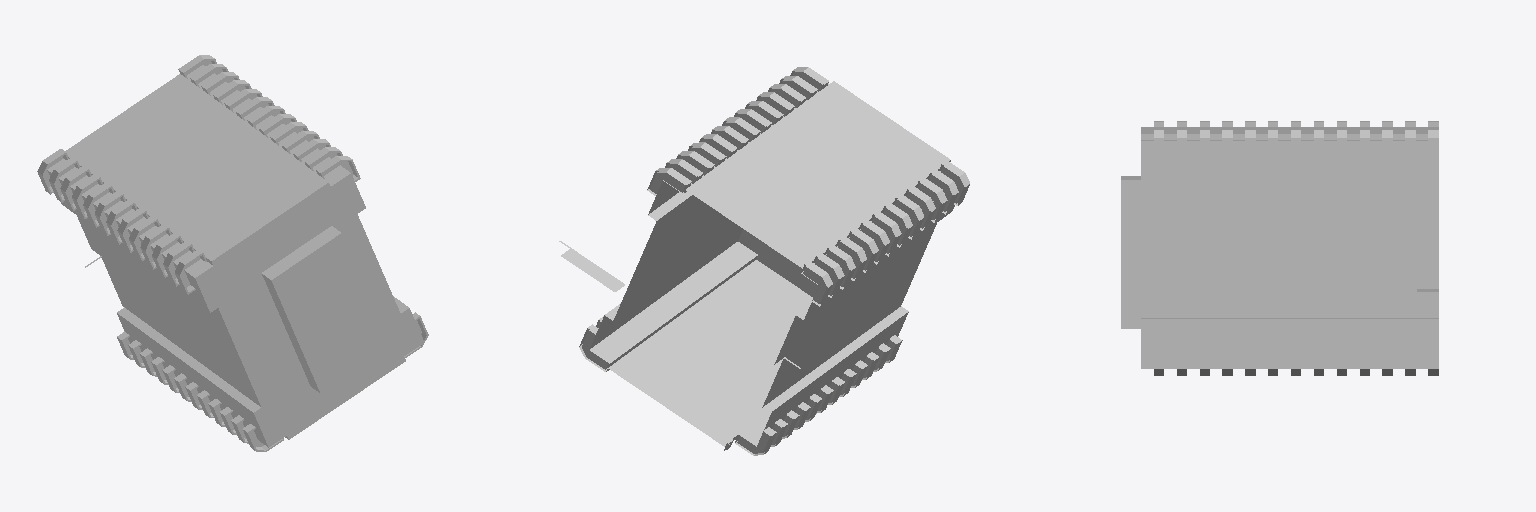
File: Immeublemav.obj
3 views of the same model, side by side, from view 1: azimuth 30°, elevation 25°; view 2: azimuth 150°, elevation 25°; view 3: azimuth 270°, elevation 25° (orthographic).
Bounding box in the file's own units: 1469 × 1381 × 1447.